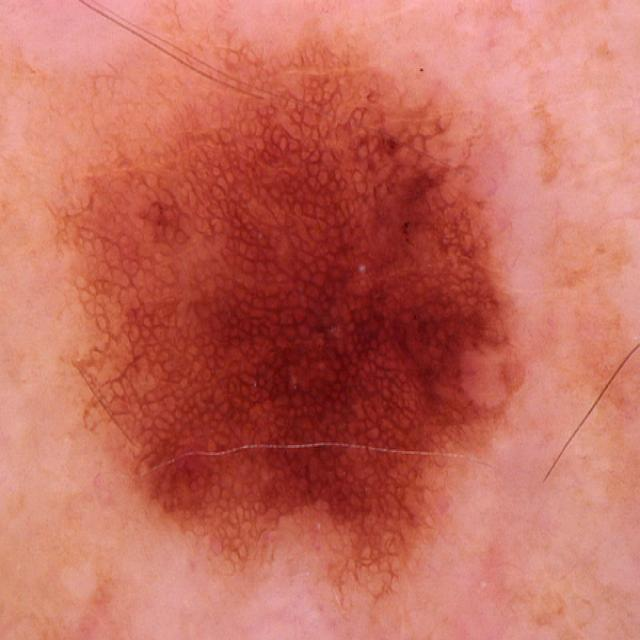NV: (52, 21, 523, 609)
